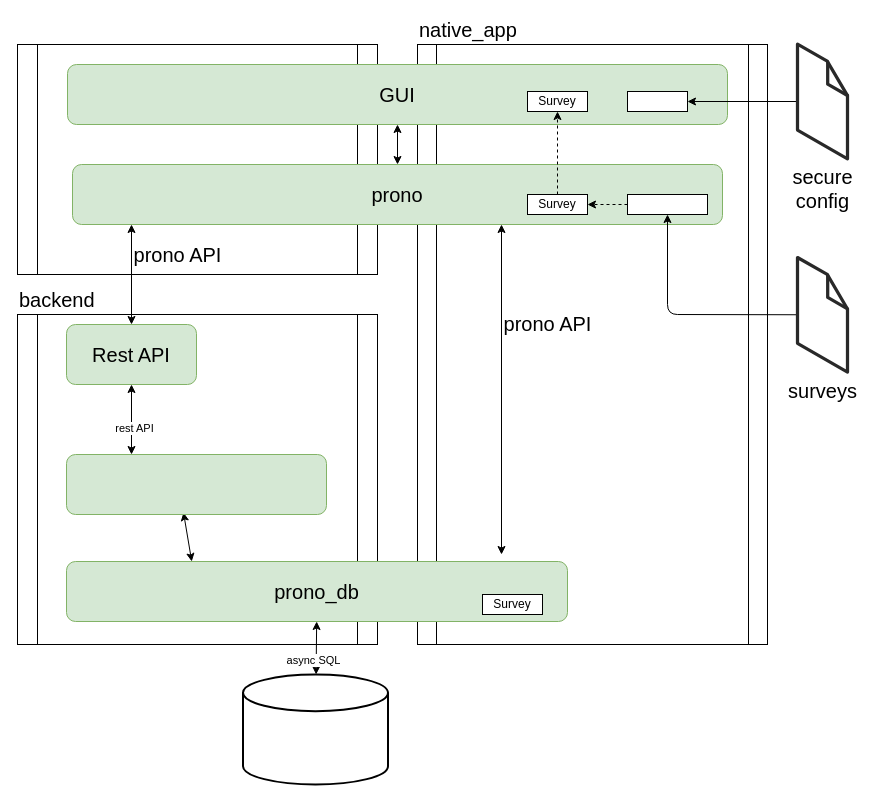
Image size: 874x802. Some labels were removed from this diagram. The centre of each missing label's shape, as x and y in pixels:
config: pixel 657 101
DB: pixel 315 729
FIleSurvey: pixel 667 204
rest_server: pixel 196 484
web_app: pixel 197 159
